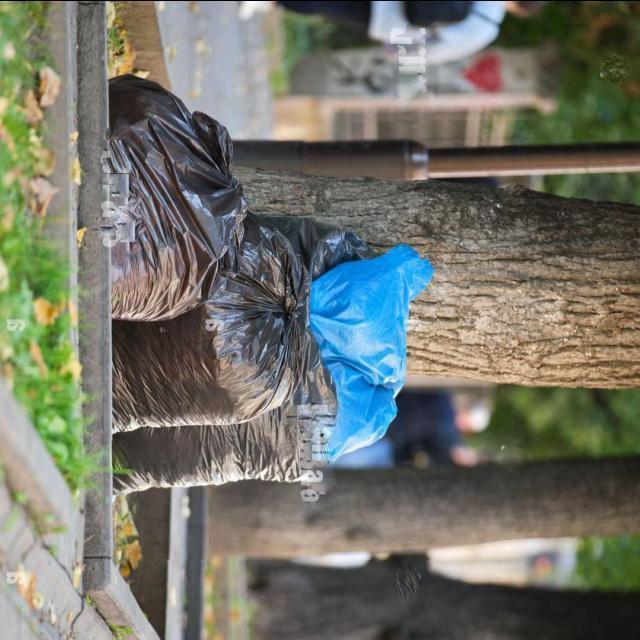Trashbag: (56, 99, 221, 303), (208, 204, 315, 428), (104, 415, 318, 503)
